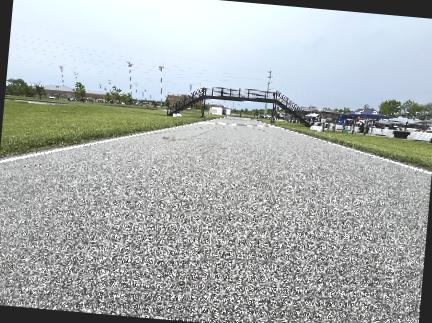Grass: (0, 100, 219, 157), (276, 121, 431, 169)
Lane: (0, 117, 431, 322)
